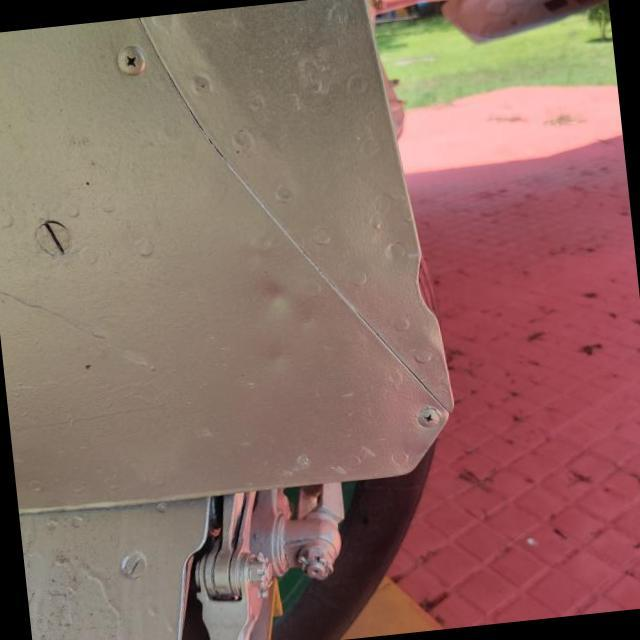Dent: (234, 252, 326, 343)
